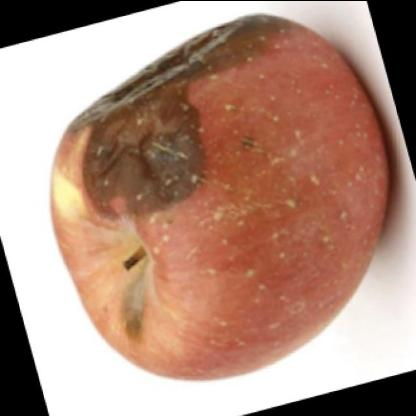defect: (44, 0, 316, 242), (102, 283, 176, 355)
